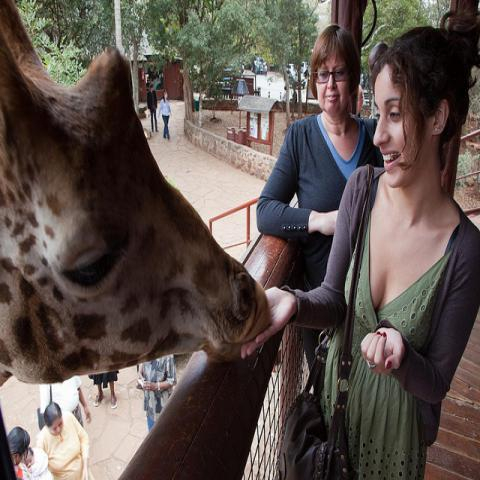car: (286, 61, 308, 88), (209, 82, 232, 97), (253, 60, 267, 74)
